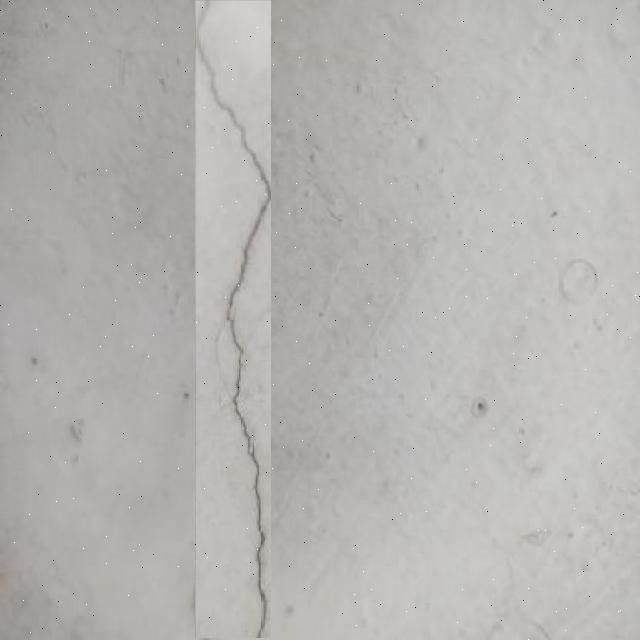crack: (291, 0, 640, 620), (262, 16, 381, 633), (194, 0, 272, 639), (198, 4, 261, 178), (193, 14, 206, 630), (560, 258, 600, 300), (194, 1, 217, 74)
